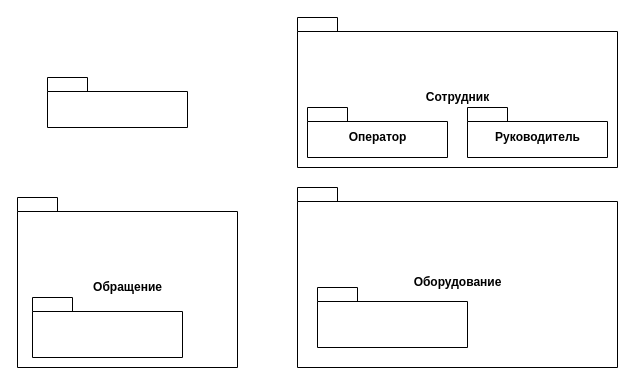
This 635x385 diagram has some shape labels left out. Each missing label, with the centre of its shape:
"Абонент" goes at (117,102).
"Заявка" goes at (107,327).
"Тип оборудования" goes at (392,317).
